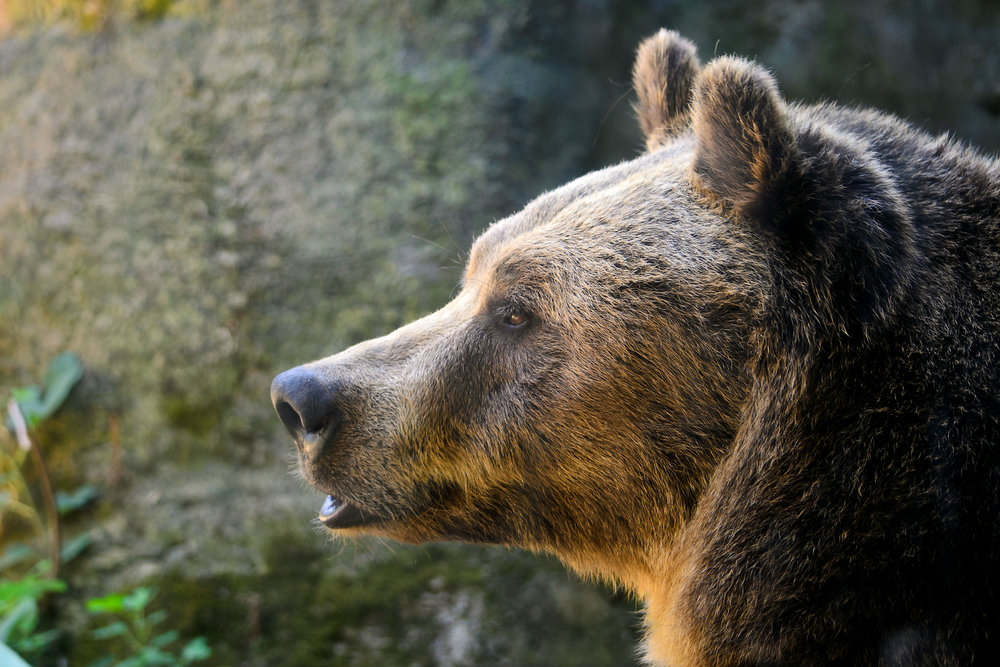bear: (261, 21, 797, 547)
